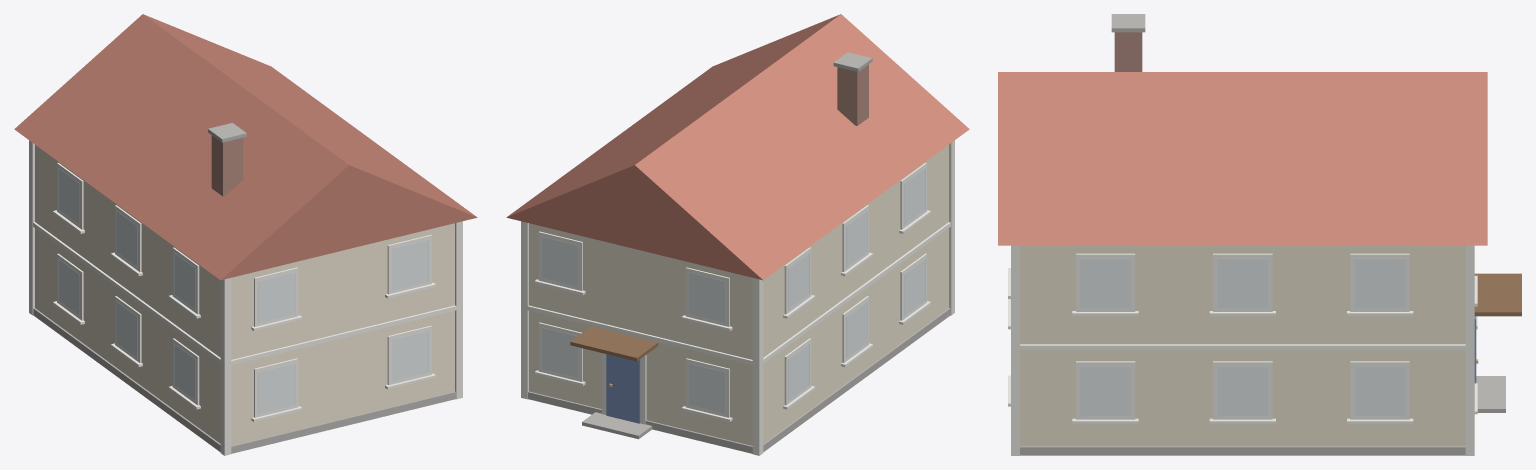
The model's file is townhouse_a.glb.
3 renders of one model, left to right at view 1: azimuth 30°, elevation 25°; view 2: azimuth 150°, elevation 25°; view 3: azimuth 270°, elevation 25°, orthographic. The views are drawn at different scales.
Visible parts, largest first — view 1: body, roof; view 2: body, roof; view 3: body, roof.
Part boxes in pixels (box(x1,y1,x2,y2)): body: box(29, 140, 462, 455); roof: box(14, 14, 477, 280); body: box(521, 140, 954, 455); roof: box(506, 14, 969, 280); body: box(1008, 245, 1521, 455); roof: box(998, 14, 1487, 245).
Size of the model in its own units: 7.7 by 7.89 by 11.45.
